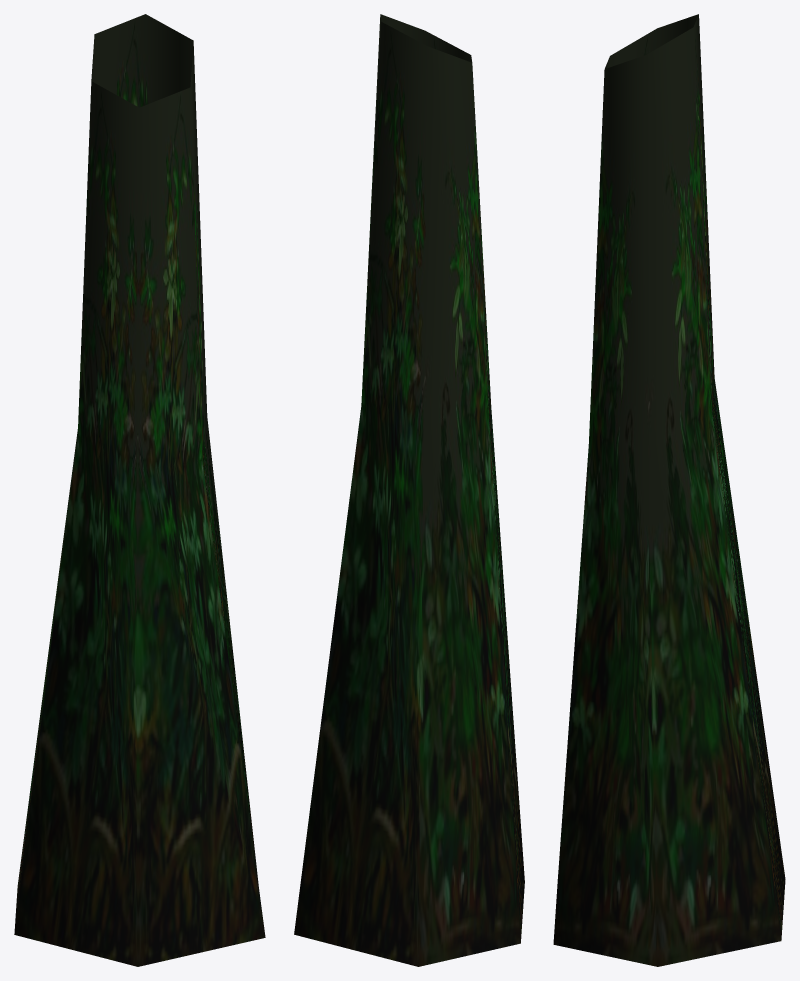
The model's file is bush_e.fbx.
3 views of the same model, side by side, from view 1: azimuth 30°, elevation 25°; view 2: azimuth 150°, elevation 25°; view 3: azimuth 270°, elevation 25° (orthographic).
Parts seen in each view (by area): view 1: lod_high; view 2: lod_high; view 3: lod_high.
Boxes of the visible parts, box(x1,y1,x2,y2) form: lod_high: box(14, 14, 265, 966); lod_high: box(294, 14, 524, 966); lod_high: box(553, 14, 785, 966).
Bounding box in the file's own units: 443 × 1623 × 383.
Materials: 1 (1 with a texture image).
